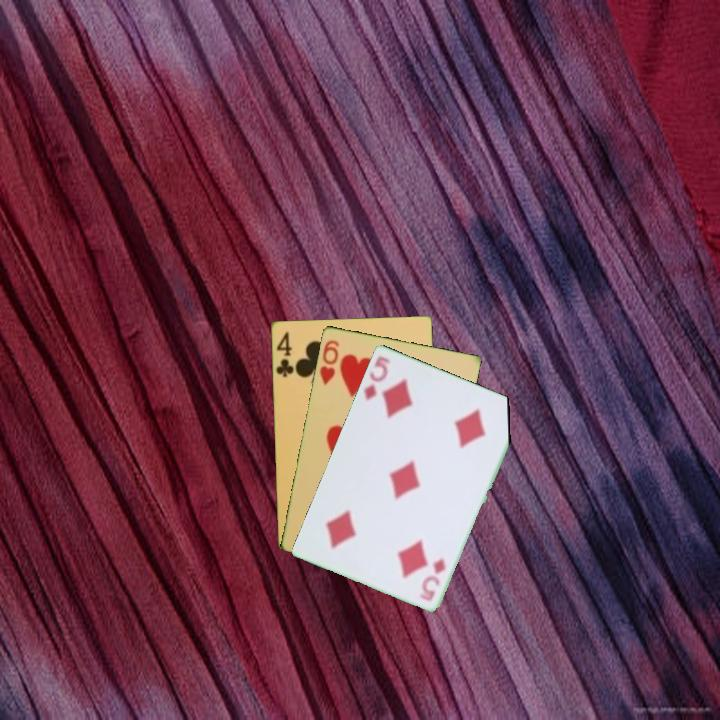4c: (273, 328, 296, 380)
5d: (359, 352, 393, 403), (418, 554, 448, 604)
6h: (316, 336, 342, 388)
